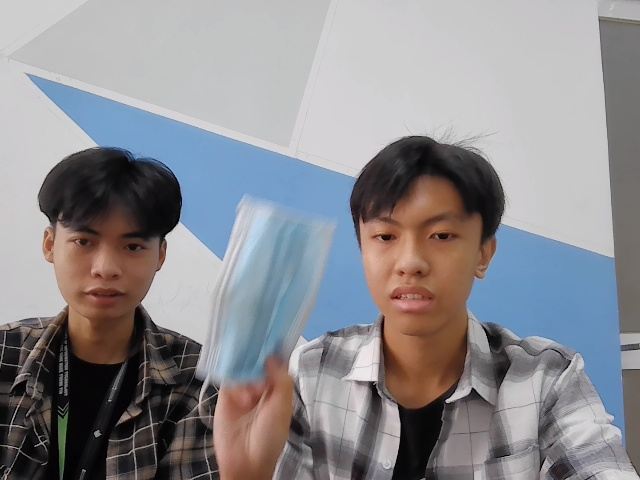human: (351, 135, 507, 334), (43, 150, 184, 328)
mask: (196, 188, 335, 407)
